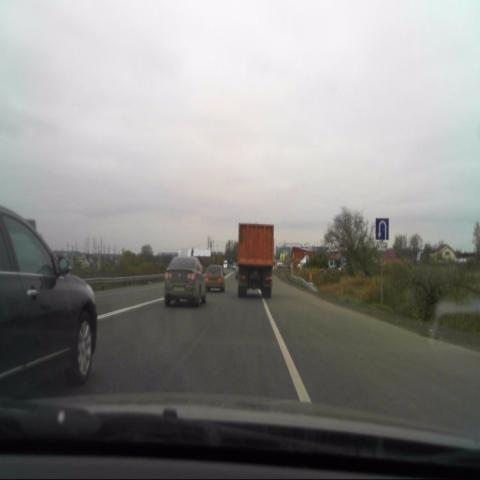6_3_1: (375, 217, 389, 240)
